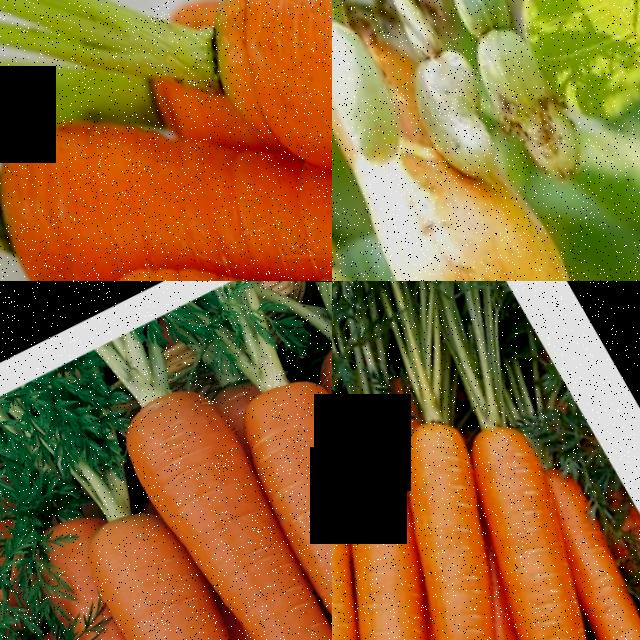carrot: (110, 363, 332, 640), (332, 384, 520, 640), (0, 71, 201, 281), (415, 419, 585, 640), (212, 351, 332, 640), (91, 498, 332, 640), (164, 0, 332, 151), (512, 445, 640, 640), (332, 425, 443, 611), (332, 396, 358, 534)
cashew: (362, 20, 522, 195), (433, 14, 584, 176), (332, 0, 412, 180)
